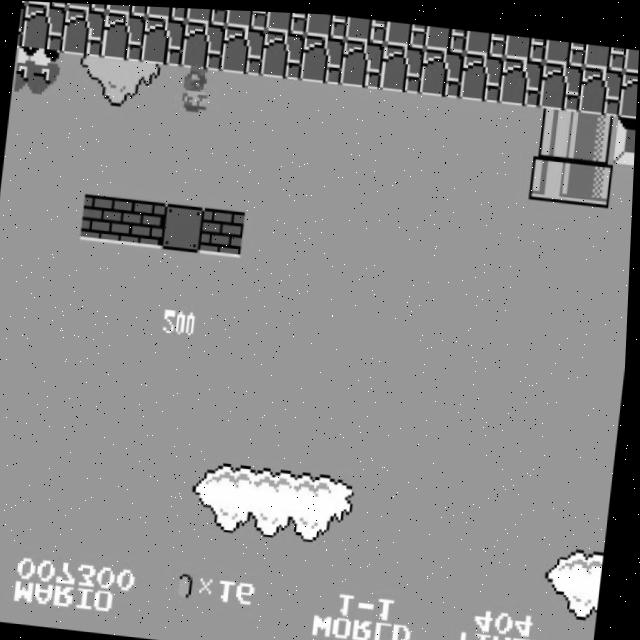1- brick_block: (201, 205, 247, 255), (82, 192, 127, 243), (122, 197, 167, 247)
11- little_mario: (171, 61, 219, 115)
14- pipe: (534, 102, 580, 153), (574, 106, 619, 157)
15- pipe_head: (529, 147, 575, 198), (569, 152, 614, 202)
17- undestructible_block: (61, 6, 107, 57), (140, 14, 186, 65), (260, 27, 306, 78), (339, 35, 385, 86), (379, 39, 425, 90), (459, 48, 505, 99), (538, 56, 584, 107), (578, 60, 624, 111), (21, 2, 67, 52), (180, 19, 226, 69), (220, 23, 266, 73), (419, 44, 465, 94), (101, 10, 146, 61), (300, 31, 345, 82), (499, 52, 544, 103), (344, 13, 388, 41), (384, 17, 428, 45), (424, 21, 468, 49), (543, 34, 587, 62), (463, 26, 507, 53), (503, 30, 547, 57), (583, 38, 627, 65), (304, 11, 348, 36), (264, 9, 308, 32), (619, 65, 638, 113), (224, 8, 268, 27), (184, 6, 228, 24), (145, 5, 188, 20), (105, 4, 148, 15), (17, 2, 26, 48), (623, 43, 639, 68), (65, 2, 108, 11)
3- empty_block: (161, 201, 207, 251)
8- goomba: (14, 45, 62, 98), (12, 45, 39, 95)
9- hard_block: (613, 111, 637, 159)
